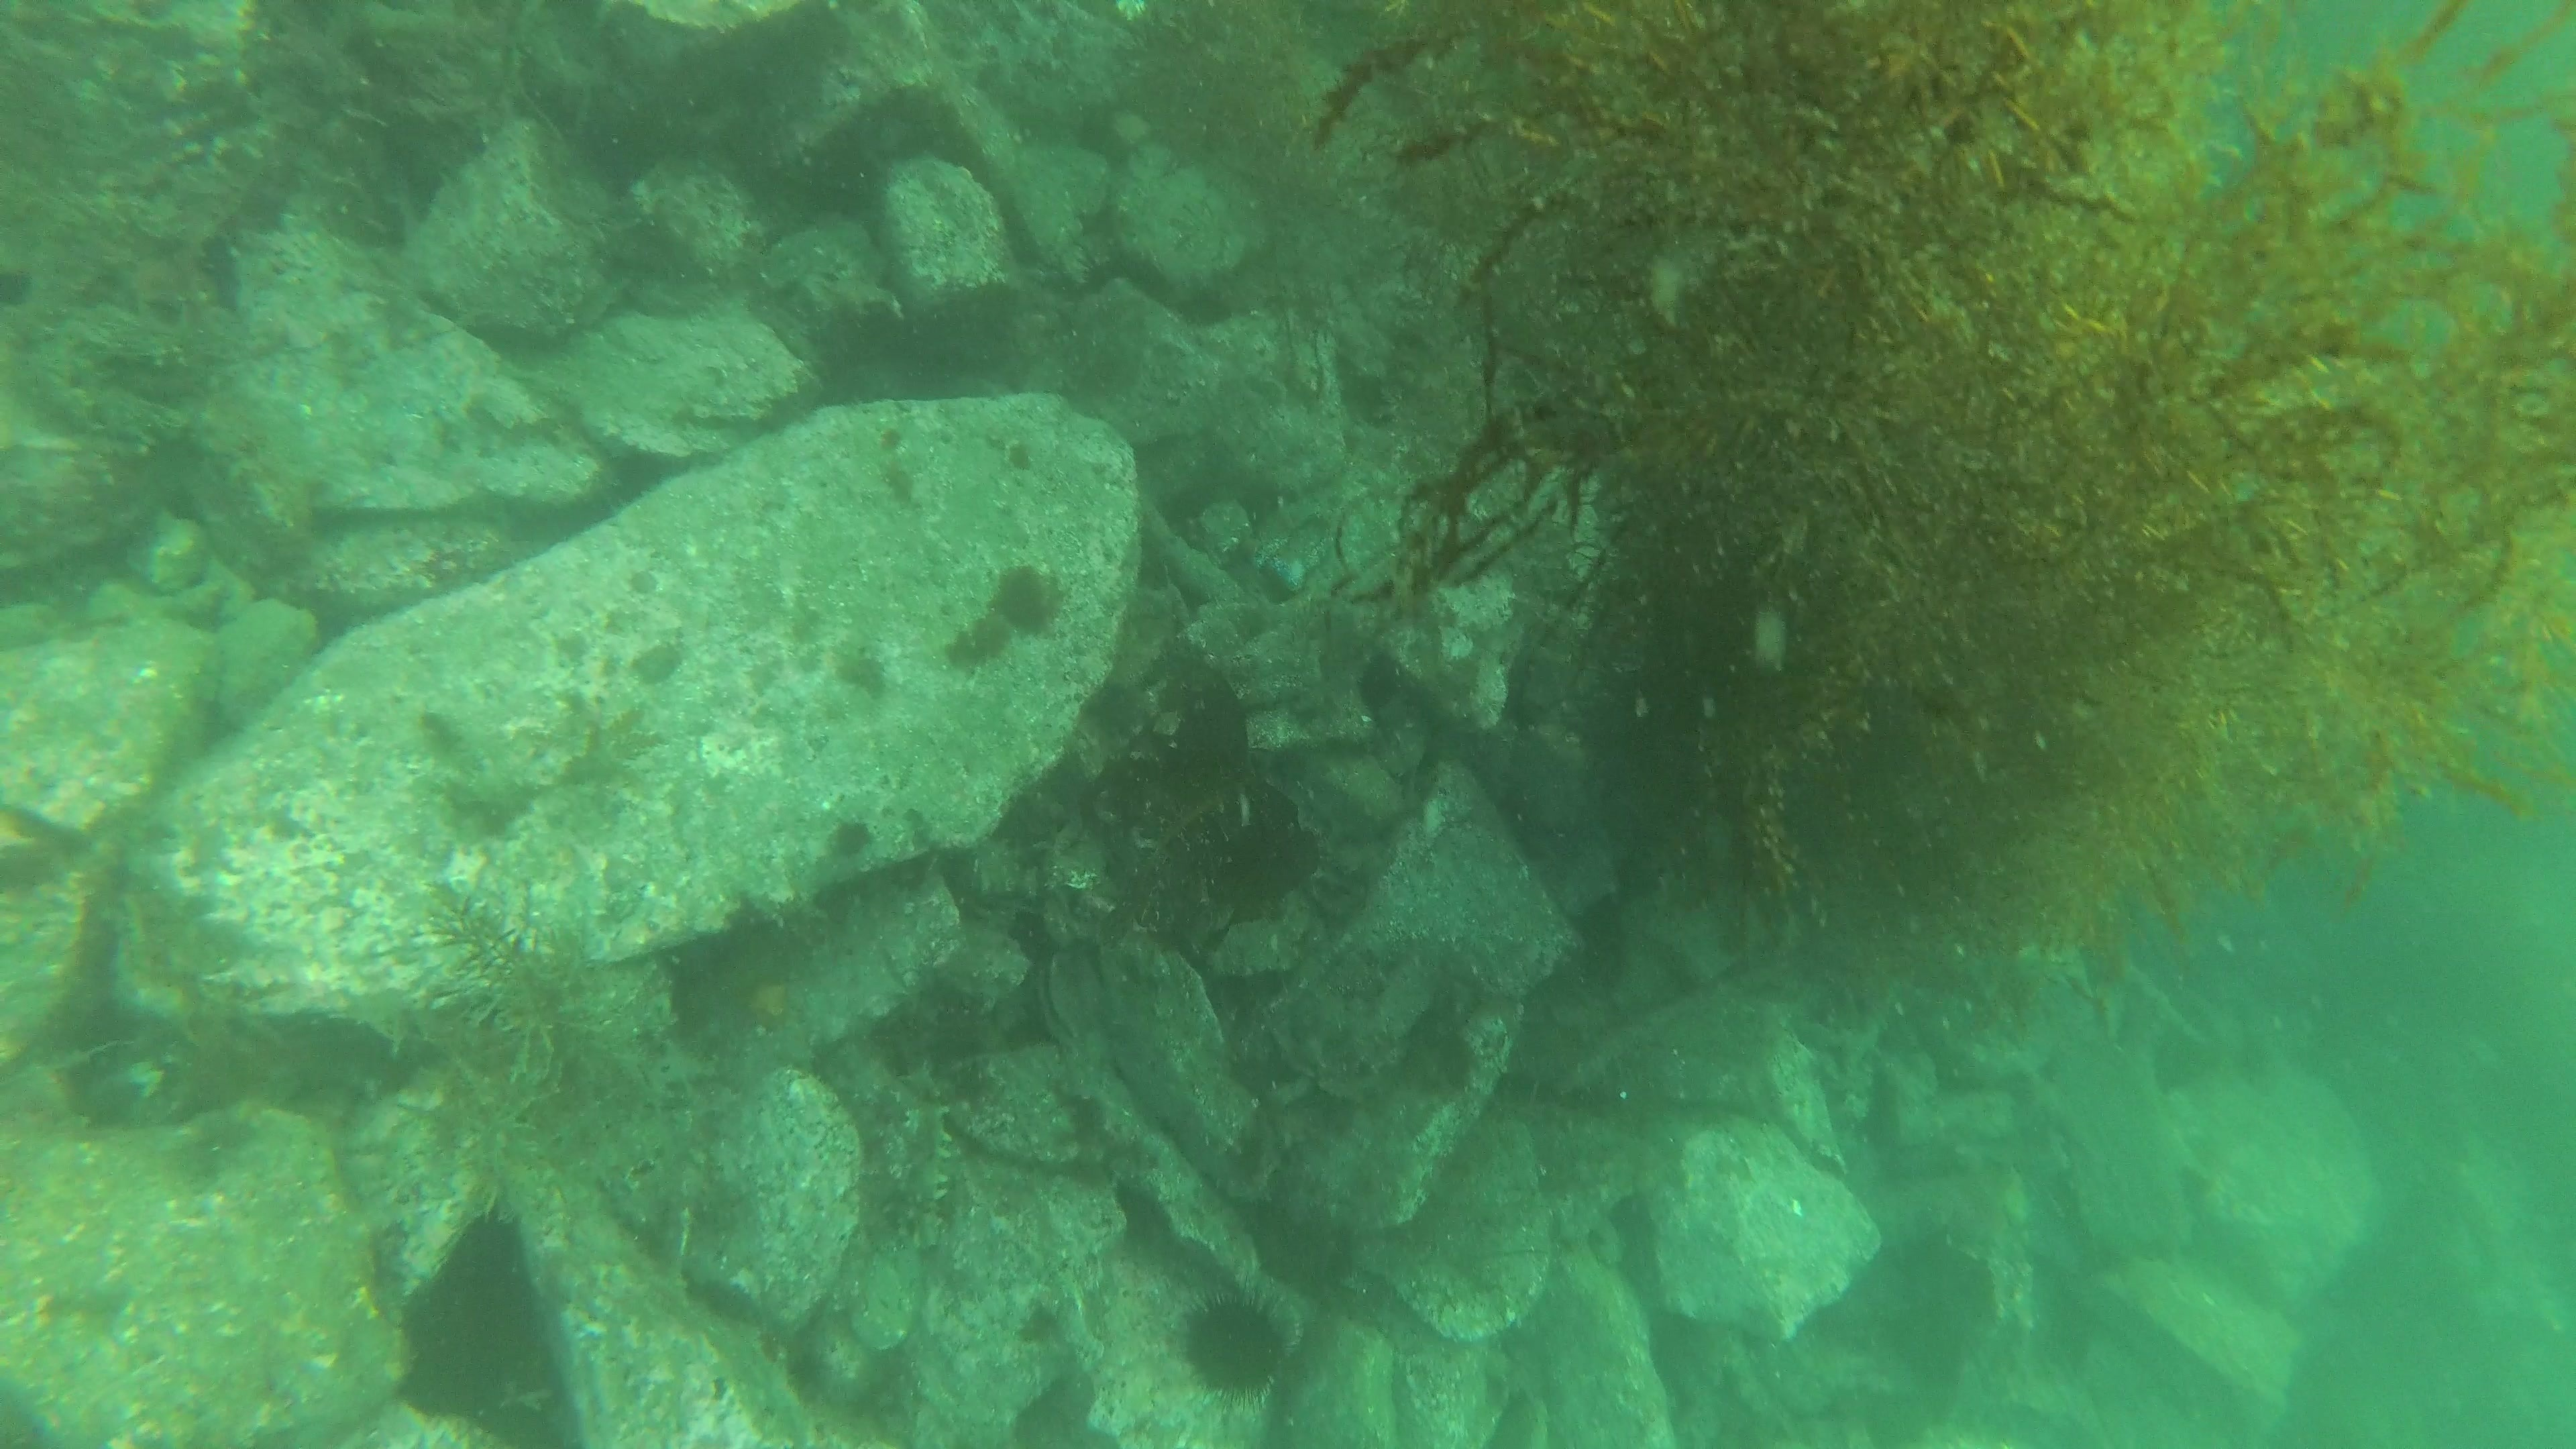echinus: (1171, 1284, 1299, 1405)
holothurian: (865, 1063, 971, 1261)
